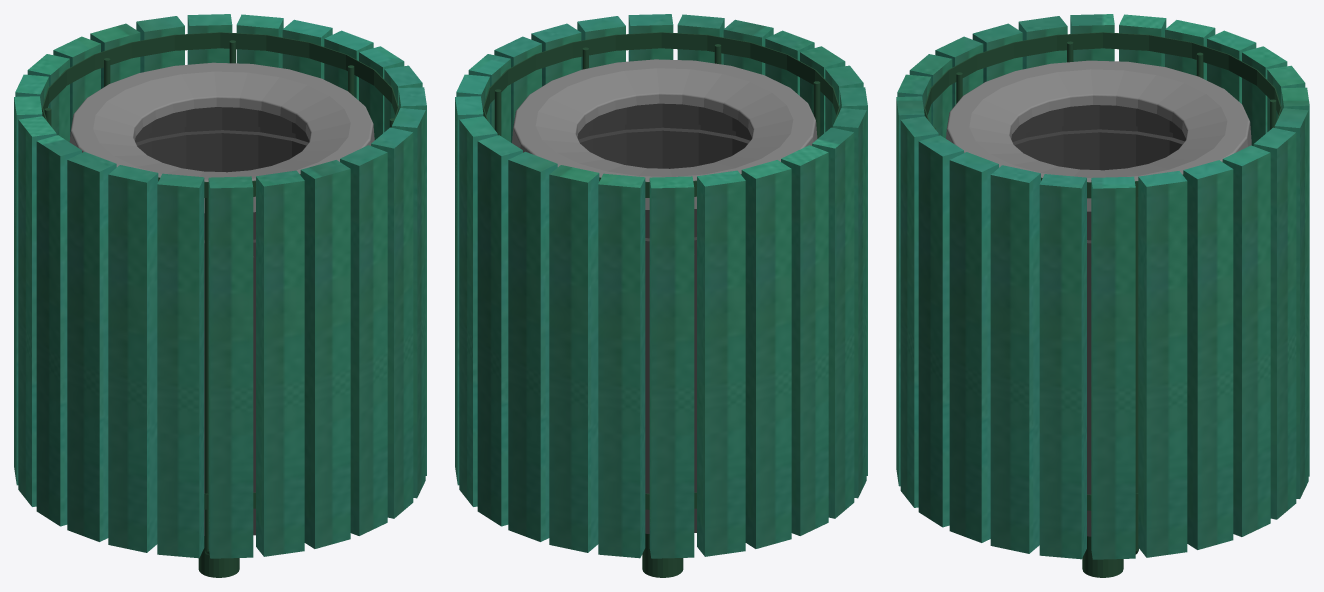
3 views of the same model, side by side, from view 1: azimuth 30°, elevation 25°; view 2: azimuth 150°, elevation 25°; view 3: azimuth 270°, elevation 25° (orthographic).
Parts seen in each view (by area): view 1: mesh94.001_mesh94-geometry, mesh115.001_mesh115-geometry, mesh135.001_mesh135-geometry, mesh124.001_mesh124-geometry, mesh133.001_mesh133-geometry, mesh117.001_mesh117-geometry, mesh127.001_mesh127-geometry, mesh107.001_mesh107-geometry, mesh141.001_mesh141-geometry, mesh137.001_mesh137-geometry, mesh73.001_mesh73-geometry, mesh123.001_mesh123-geometry (+17 smaller); view 2: mesh94.001_mesh94-geometry, mesh129.001_mesh129-geometry, mesh122.001_mesh122-geometry, mesh121.001_mesh121-geometry, mesh134.001_mesh134-geometry, mesh131.001_mesh131-geometry, mesh128.001_mesh128-geometry, mesh123.001_mesh123-geometry, mesh130.001_mesh130-geometry, mesh73.001_mesh73-geometry, mesh141.001_mesh141-geometry, mesh140.001_mesh140-geometry (+16 smaller); view 3: mesh94.001_mesh94-geometry, mesh109.001_mesh109-geometry, mesh139.001_mesh139-geometry, mesh138.001_mesh138-geometry, mesh126.001_mesh126-geometry, mesh136.001_mesh136-geometry, mesh132.001_mesh132-geometry, mesh140.001_mesh140-geometry, mesh137.001_mesh137-geometry, mesh130.001_mesh130-geometry, mesh73.001_mesh73-geometry, mesh107.001_mesh107-geometry (+17 smaller).
Boxes of the visible parts, left/top/right/bottom form: mesh94.001_mesh94-geometry: left=69, top=62, right=374, bottom=213; mesh115.001_mesh115-geometry: left=108, top=165, right=158, bottom=552; mesh135.001_mesh135-geometry: left=256, top=170, right=304, bottom=556; mesh124.001_mesh124-geometry: left=157, top=173, right=204, bottom=558; mesh133.001_mesh133-geometry: left=300, top=160, right=350, bottom=548; mesh117.001_mesh117-geometry: left=208, top=176, right=253, bottom=558; mesh127.001_mesh127-geometry: left=67, top=151, right=116, bottom=541; mesh107.001_mesh107-geometry: left=340, top=145, right=387, bottom=535; mesh141.001_mesh141-geometry: left=36, top=135, right=81, bottom=526; mesh137.001_mesh137-geometry: left=371, top=127, right=413, bottom=518; mesh73.001_mesh73-geometry: left=135, top=107, right=309, bottom=535; mesh123.001_mesh123-geometry: left=18, top=116, right=56, bottom=506; mesh94.001_mesh94-geometry: left=512, top=59, right=817, bottom=209; mesh129.001_mesh129-geometry: left=549, top=165, right=599, bottom=552; mesh122.001_mesh122-geometry: left=697, top=170, right=745, bottom=556; mesh121.001_mesh121-geometry: left=598, top=173, right=645, bottom=558; mesh134.001_mesh134-geometry: left=741, top=160, right=791, bottom=548; mesh131.001_mesh131-geometry: left=649, top=176, right=694, bottom=558; mesh128.001_mesh128-geometry: left=508, top=151, right=557, bottom=541; mesh123.001_mesh123-geometry: left=781, top=145, right=828, bottom=535; mesh130.001_mesh130-geometry: left=477, top=135, right=522, bottom=526; mesh73.001_mesh73-geometry: left=577, top=103, right=751, bottom=533; mesh141.001_mesh141-geometry: left=812, top=127, right=854, bottom=518; mesh140.001_mesh140-geometry: left=459, top=116, right=497, bottom=506; mesh94.001_mesh94-geometry: left=946, top=60, right=1251, bottom=211; mesh109.001_mesh109-geometry: left=990, top=165, right=1040, bottom=553; mesh139.001_mesh139-geometry: left=1138, top=171, right=1187, bottom=557; mesh138.001_mesh138-geometry: left=1039, top=174, right=1086, bottom=559; mesh126.001_mesh126-geometry: left=1183, top=160, right=1233, bottom=549; mesh136.001_mesh136-geometry: left=1091, top=176, right=1135, bottom=559; mesh132.001_mesh132-geometry: left=949, top=152, right=998, bottom=542; mesh140.001_mesh140-geometry: left=1222, top=145, right=1270, bottom=536; mesh137.001_mesh137-geometry: left=918, top=135, right=963, bottom=527; mesh130.001_mesh130-geometry: left=1253, top=127, right=1296, bottom=519; mesh73.001_mesh73-geometry: left=1011, top=105, right=1185, bottom=536; mesh107.001_mesh107-geometry: left=900, top=116, right=938, bottom=507.
Bounding box in the file's own units: 0.5297 × 0.6624 × 0.5297.
